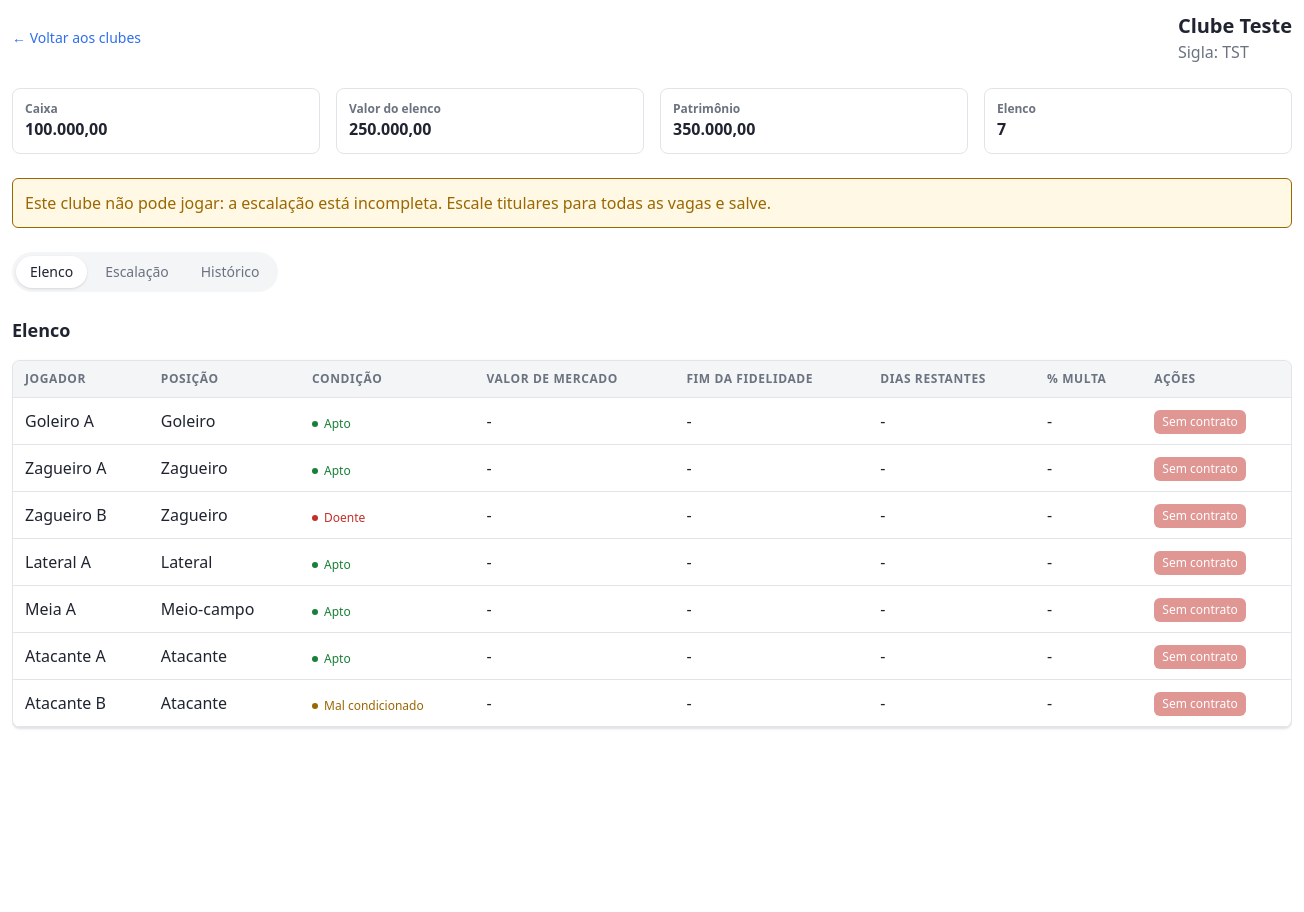
Test: ClubPage › mostra totais do summary que mudam quando o filtro de tipo muda
The width and height of the screenshot is (1304, 912).
Expected: the heading "Clube Teste" is shown, [1178,12,1292,40]
Step 1. Click the tab "Histórico" → (230, 272), box [187,256,274,288]
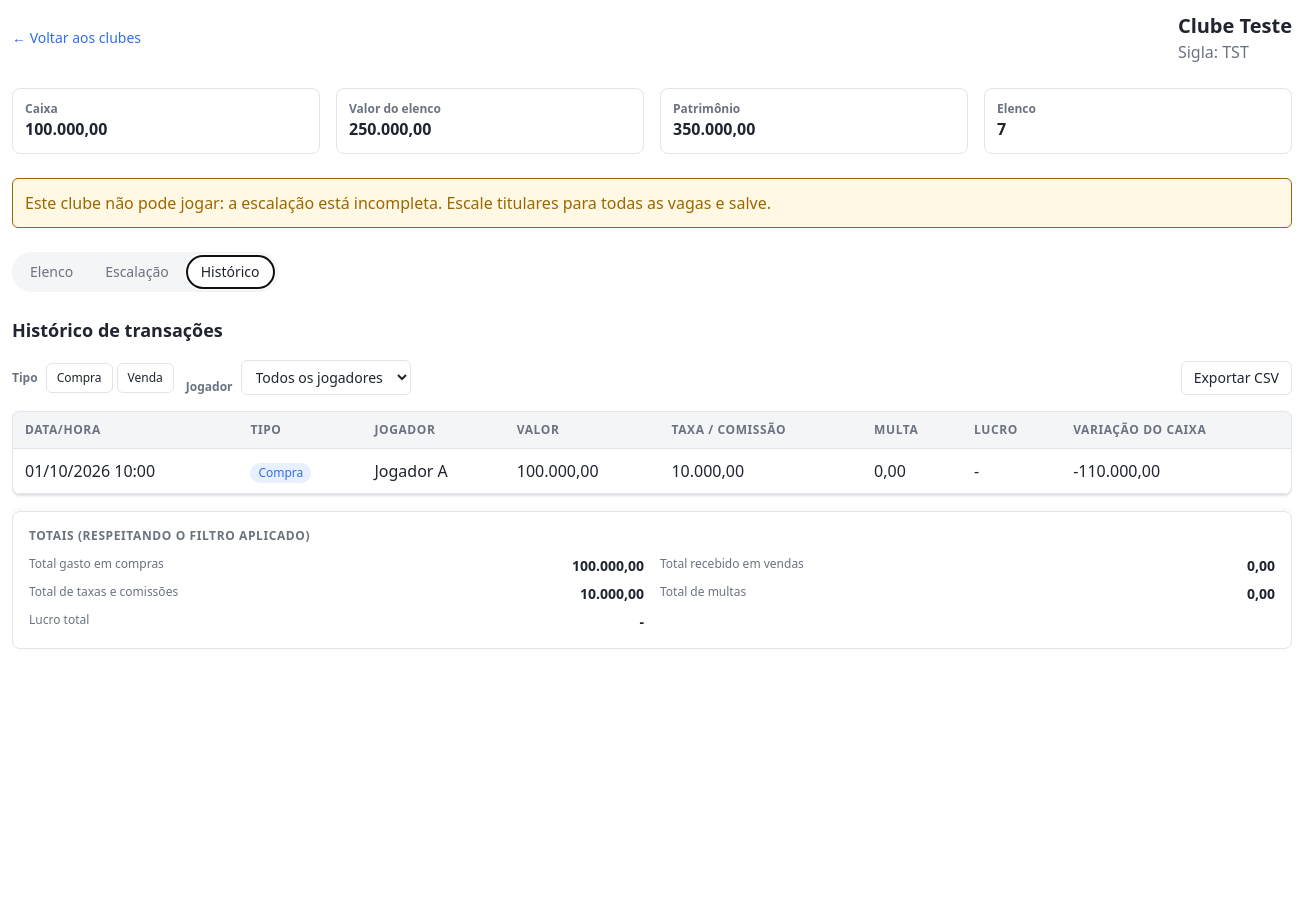
Result: the text "Total gasto em compras" is shown at [29,556,164,576]
Result: the text "100.000,00" in the row of "Total gasto em compras" is shown at [572,556,644,575]
aplica filtro de tipo VENDA
Step 2. Click the checkbox labelled "Venda" → (145, 378), box [116,362,174,392]
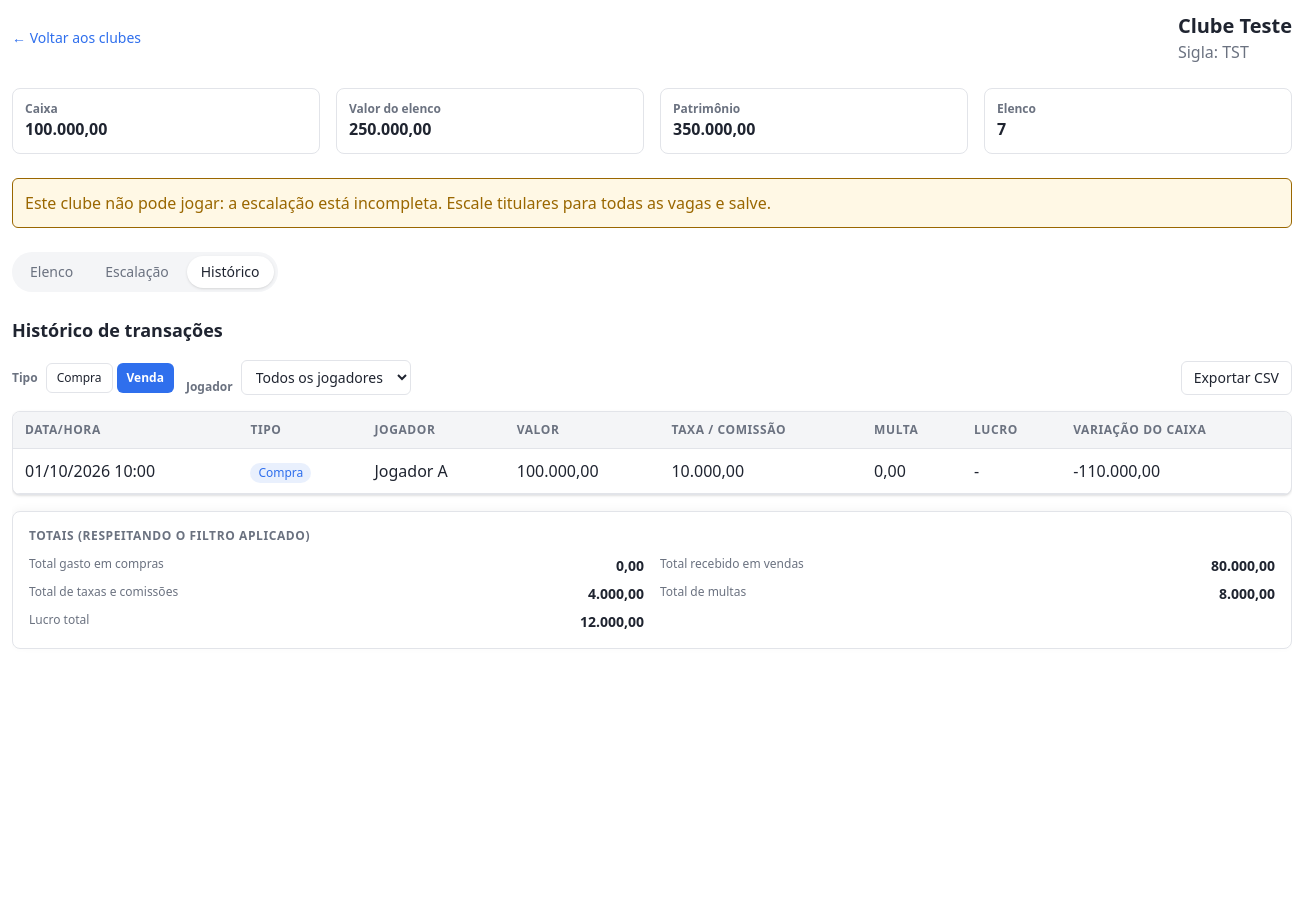
Expected: the text "0,00" is shown, [616,556,644,576]
Result: the text "80.000,00" is shown at [1211,556,1275,576]
Result: the text "12.000,00" is shown at [580,612,644,632]
